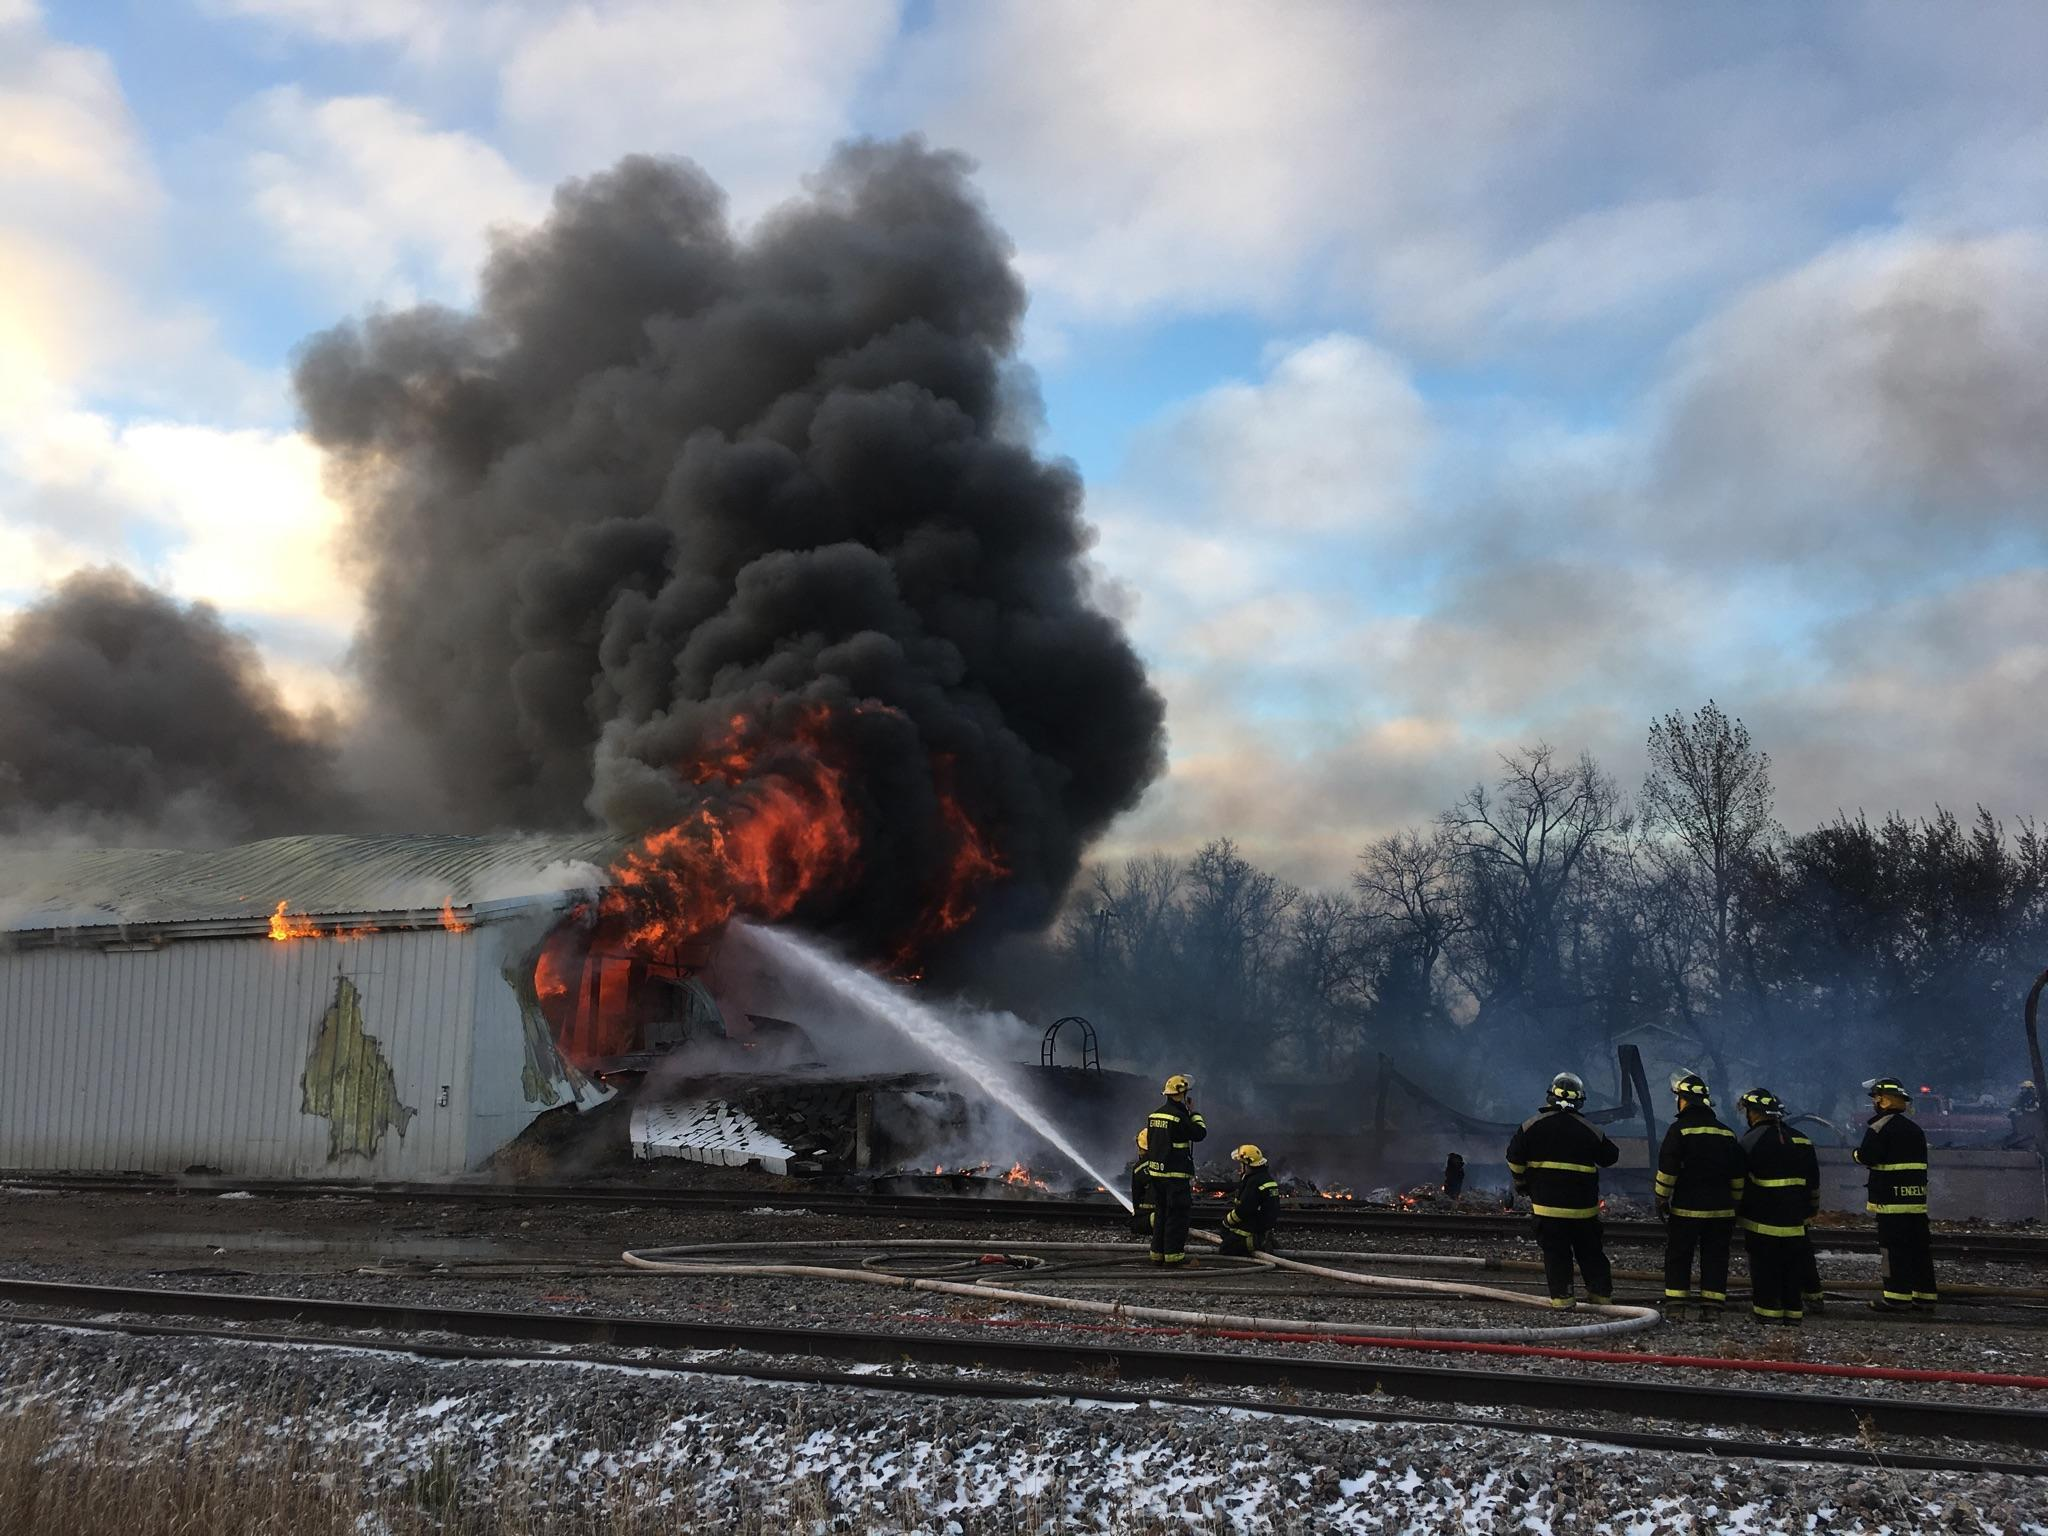fire: (592, 766, 873, 947), (259, 900, 473, 950)
smoke: (366, 245, 1133, 719), (14, 594, 247, 791)
